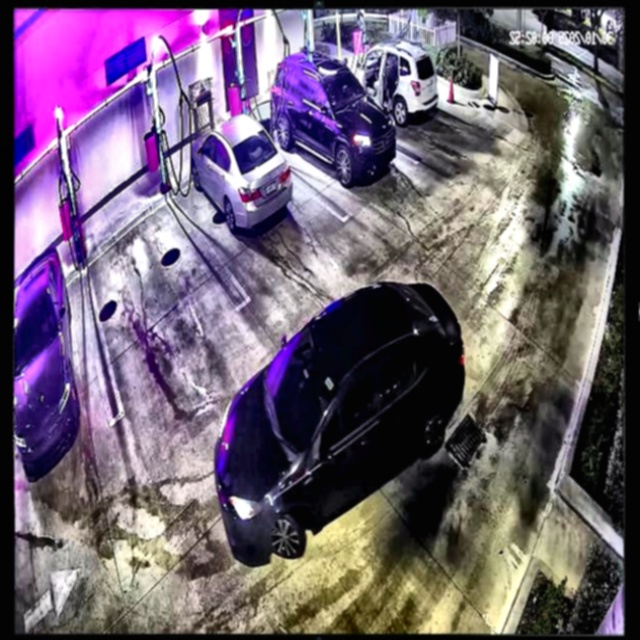Car: (212, 282, 468, 566), (271, 55, 397, 187), (190, 114, 291, 230)
